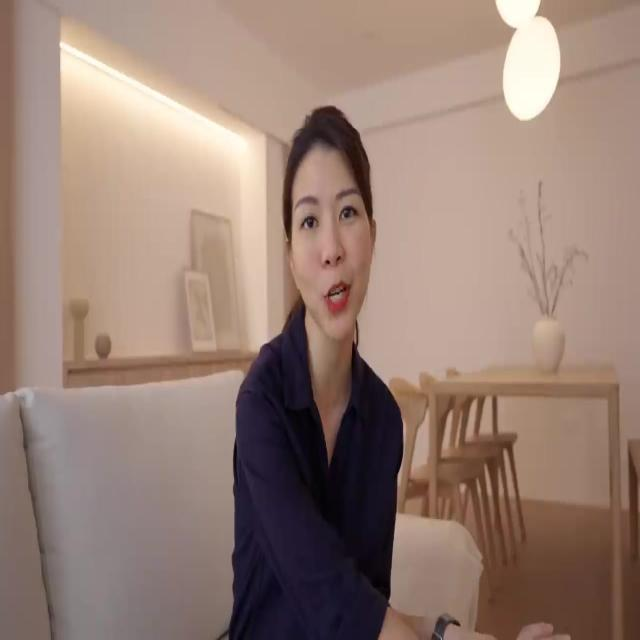obstacle: (418, 362, 624, 638)
person: (228, 104, 570, 639)
